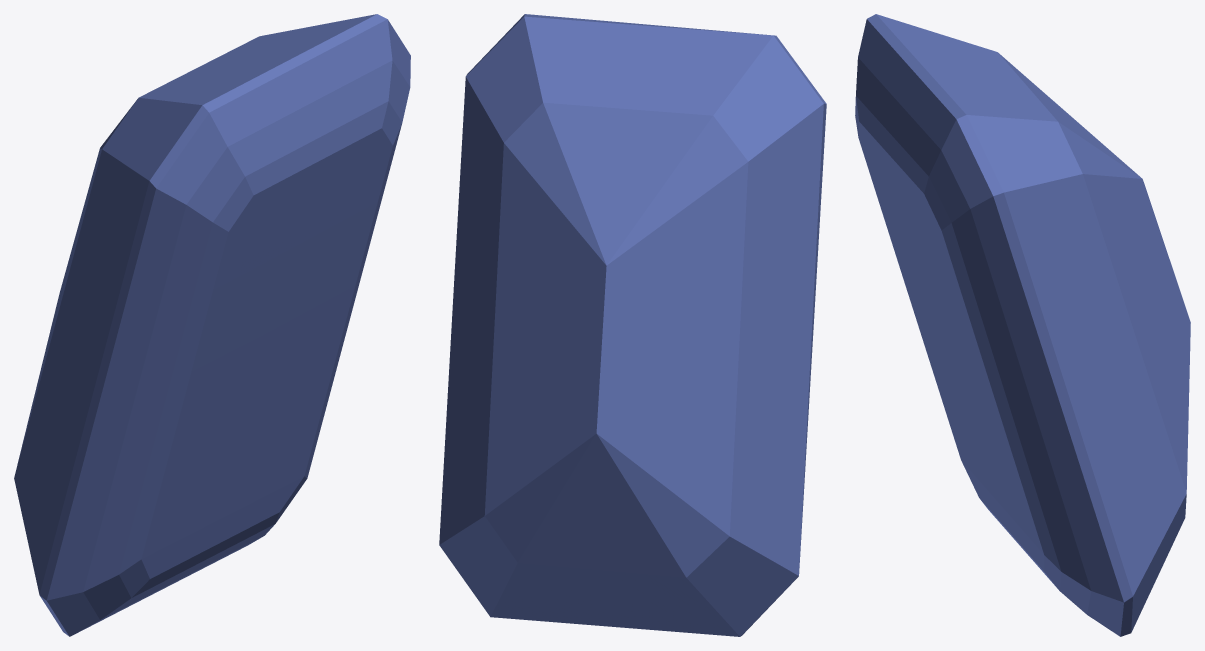
The model's file is BR2_8shapes_Emerald_Classic_Stone.001 2.glb.
3 renders of one model, left to right at view 1: azimuth 30°, elevation 25°; view 2: azimuth 150°, elevation 25°; view 3: azimuth 270°, elevation 25°, orthographic. The views are drawn at different scales.
Visible parts, largest first — view 1: BR2_8shapes_Emerald_Classic_Stone.001; view 2: BR2_8shapes_Emerald_Classic_Stone.001; view 3: BR2_8shapes_Emerald_Classic_Stone.001.
Boxes of the visible parts, <box> form: BR2_8shapes_Emerald_Classic_Stone.001: <box>14,14,410,636</box>; BR2_8shapes_Emerald_Classic_Stone.001: <box>439,14,826,636</box>; BR2_8shapes_Emerald_Classic_Stone.001: <box>855,14,1190,636</box>.
Bounding box in the file's own units: 0.3415 × 0.5187 × 0.289.
